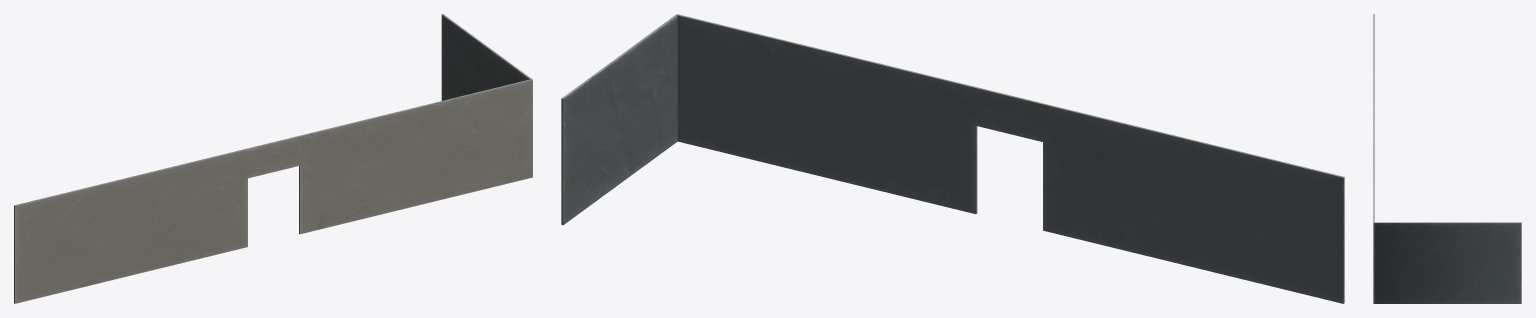
Rendered from LETSGOOOWALLWORKPLEASE.fbx.
3 renders of one model, left to right at view 1: azimuth 30°, elevation 25°; view 2: azimuth 150°, elevation 25°; view 3: azimuth 270°, elevation 25°, orthographic. The views are drawn at different scales.
Parts seen in each view (by area): view 1: Front_Wall_Low; view 2: Front_Wall_Low; view 3: Front_Wall_Low.
Boxes of the visible parts, x1,y1,x2,y2 form: Front_Wall_Low: (14, 14, 532, 303); Front_Wall_Low: (561, 14, 1344, 303); Front_Wall_Low: (1373, 14, 1521, 303).
Bounding box in the file's own units: 2000 × 361 × 600.
Materials: 1 (1 with a texture image).
